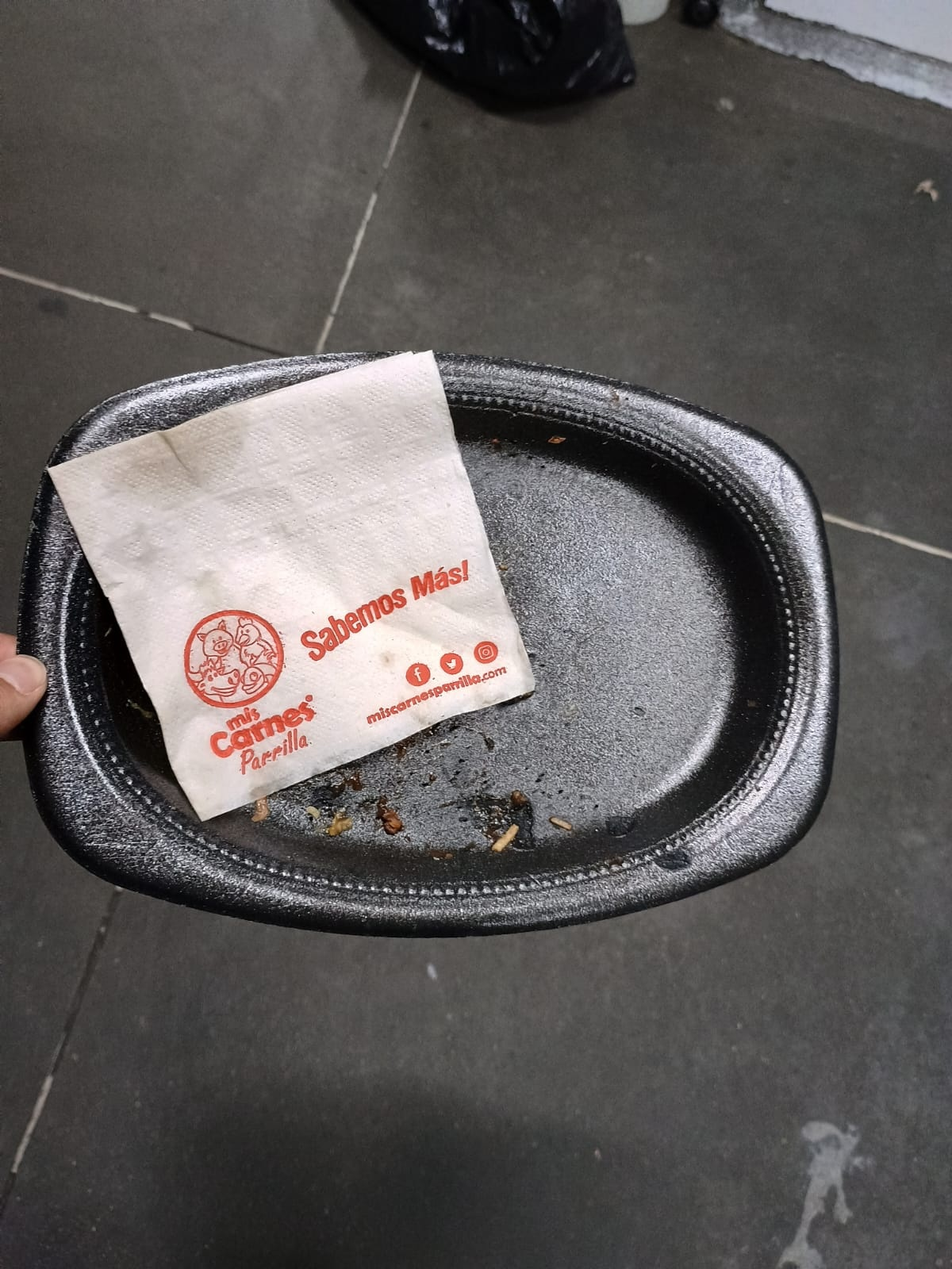Ordinario: (21, 350, 841, 938)
